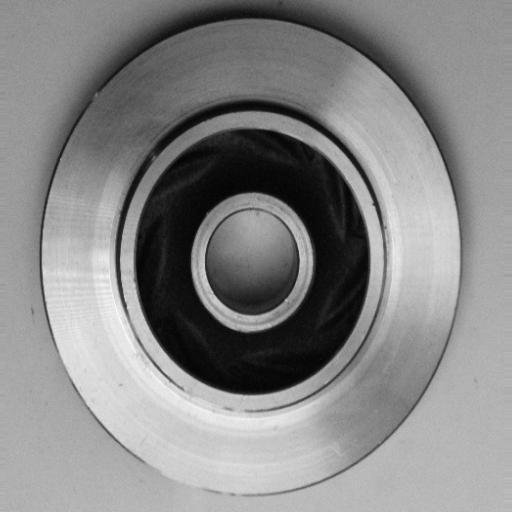scratch: (173, 380, 258, 430)
unpolished_casting: (43, 16, 467, 500)
